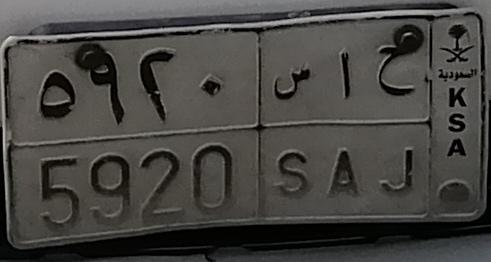0: (189, 73, 238, 215)
2: (137, 47, 185, 220)
5: (34, 65, 83, 231)
9: (86, 49, 132, 228)
A: (325, 48, 362, 200)
J: (376, 43, 416, 195)
S: (270, 62, 312, 197)
